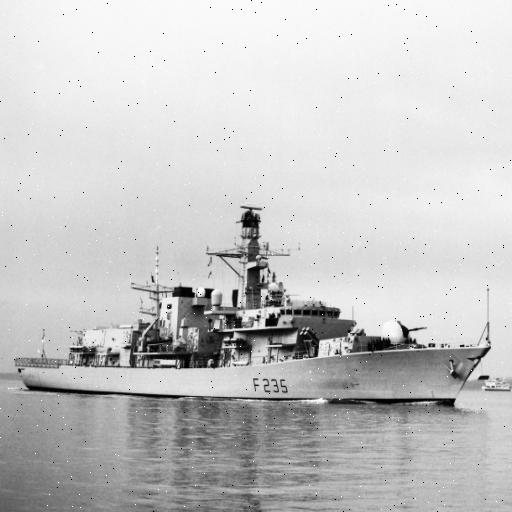Fragata: (10, 203, 500, 413)
